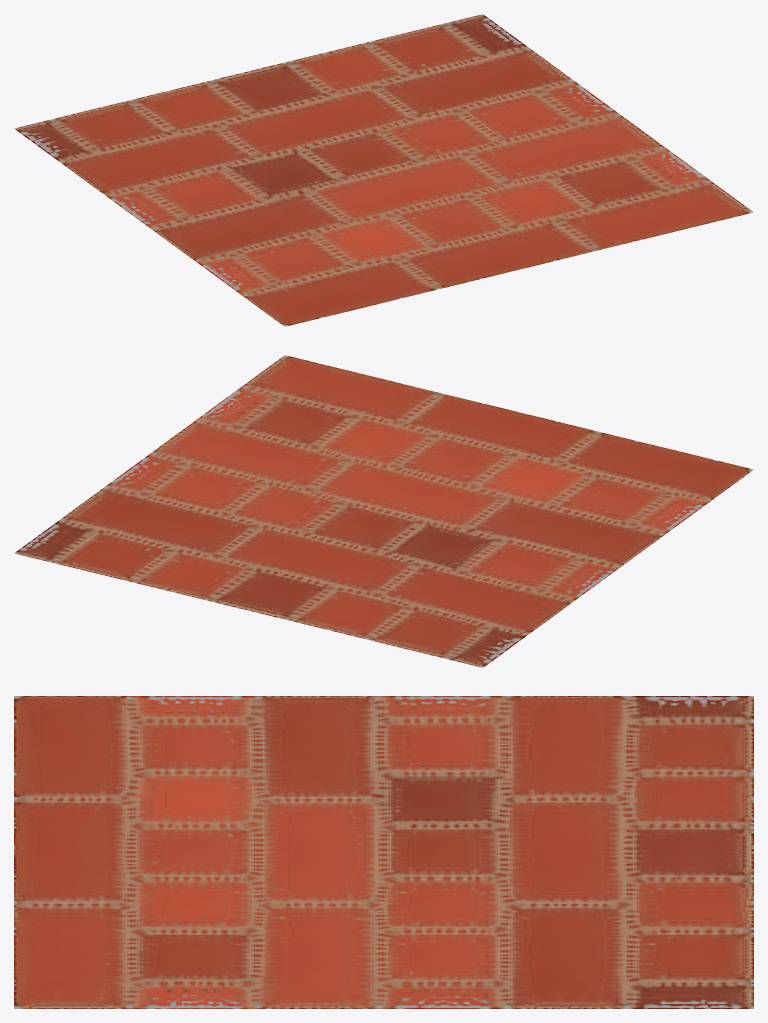
3 views of the same model, one above another, from view 1: azimuth 30°, elevation 25°; view 2: azimuth 150°, elevation 25°; view 3: azimuth 270°, elevation 25° (orthographic). The views are drawn at different scales.
Visible parts, largest first — view 1: pMesh1; view 2: pMesh1; view 3: pMesh1.
Part boxes in pixels (bbox=[...]): pMesh1: bbox=[14, 14, 753, 326]; pMesh1: bbox=[14, 355, 753, 667]; pMesh1: bbox=[14, 696, 753, 1008].
Size of the model in its own units: 2 by 0 by 2.
Materials: 1 (1 with a texture image).
